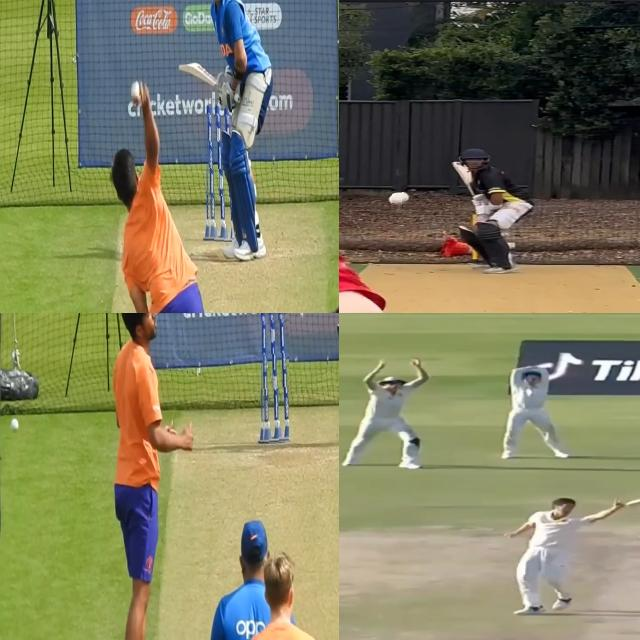Cricket ball: (386, 192, 413, 208), (130, 79, 142, 107), (10, 416, 20, 436)
Stumps: (258, 313, 289, 443), (204, 100, 232, 242)
